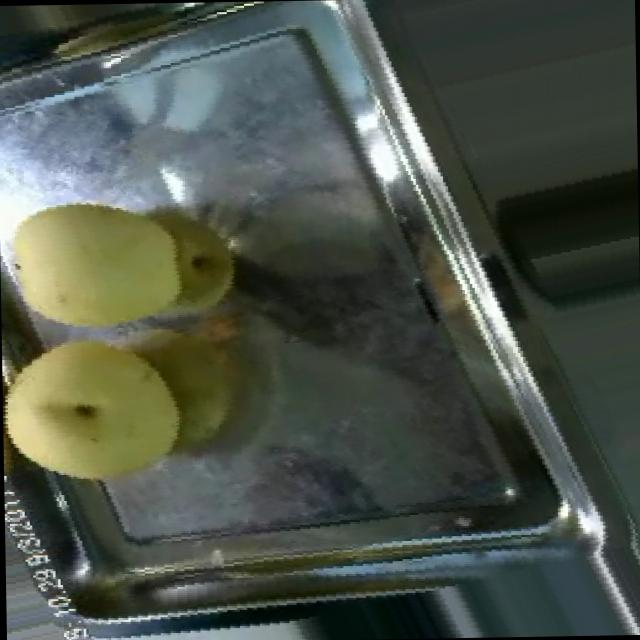Fruit: (0, 168, 211, 340), (0, 328, 196, 502)
